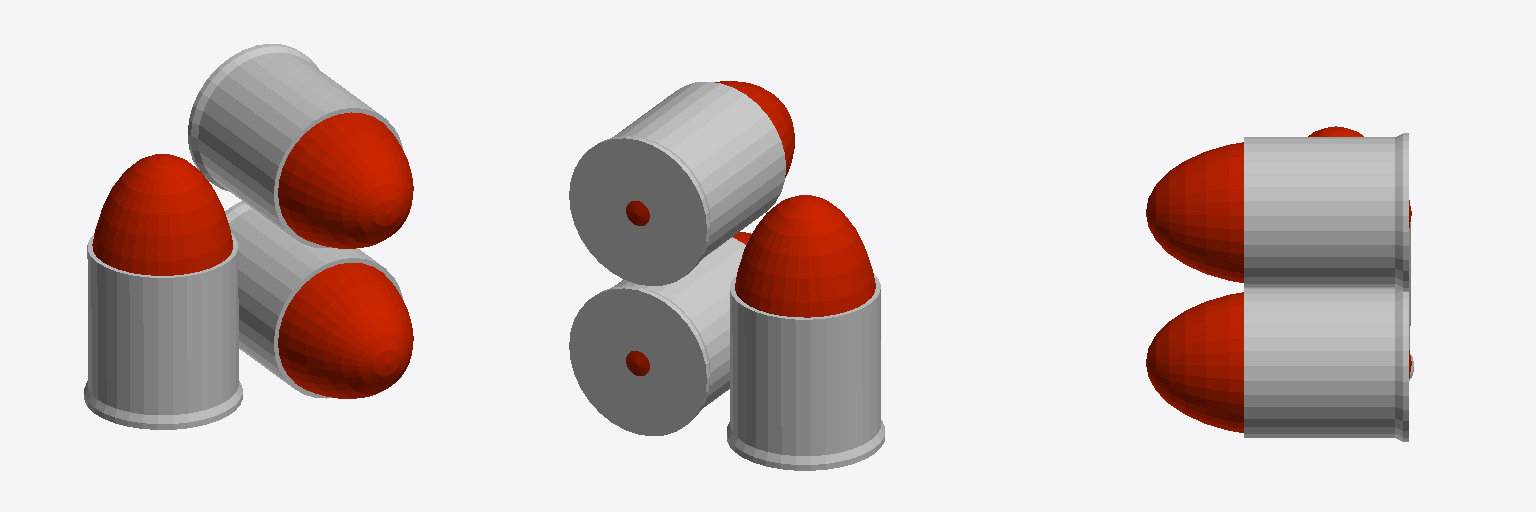
Rendered from Granade.obj.
3 renders of one model, left to right at view 1: azimuth 30°, elevation 25°; view 2: azimuth 150°, elevation 25°; view 3: azimuth 270°, elevation 25°, orthographic.
Visible parts, largest first — view 1: Cylinder.002, Cylinder, Sphere, Sphere.001, Sphere.002, Cylinder.001; view 2: Cylinder, Cylinder.002, Cylinder.001, Sphere.002, Sphere, Sphere.001; view 3: Cylinder, Cylinder.001, Sphere, Sphere.001.
Part boxes in pixels (x1,y1,x2,y2): Cylinder.002: (84,233,242,429); Cylinder: (188,44,403,247); Sphere: (278,112,413,248); Sphere.001: (278,263,413,398); Sphere.002: (92,154,232,275); Cylinder.001: (225,201,403,398); Cylinder: (569,82,785,285); Cylinder.002: (727,274,884,470); Cylinder.001: (569,237,745,435); Sphere.002: (735,195,875,317); Sphere: (626,81,794,225); Sphere.001: (626,232,751,375); Cylinder: (1244,133,1408,291); Cylinder.001: (1244,288,1408,441); Sphere: (1146,142,1411,282); Sphere.001: (1146,292,1411,432).
Size of the model in its own units: 3.74 by 3.92 by 3.24.